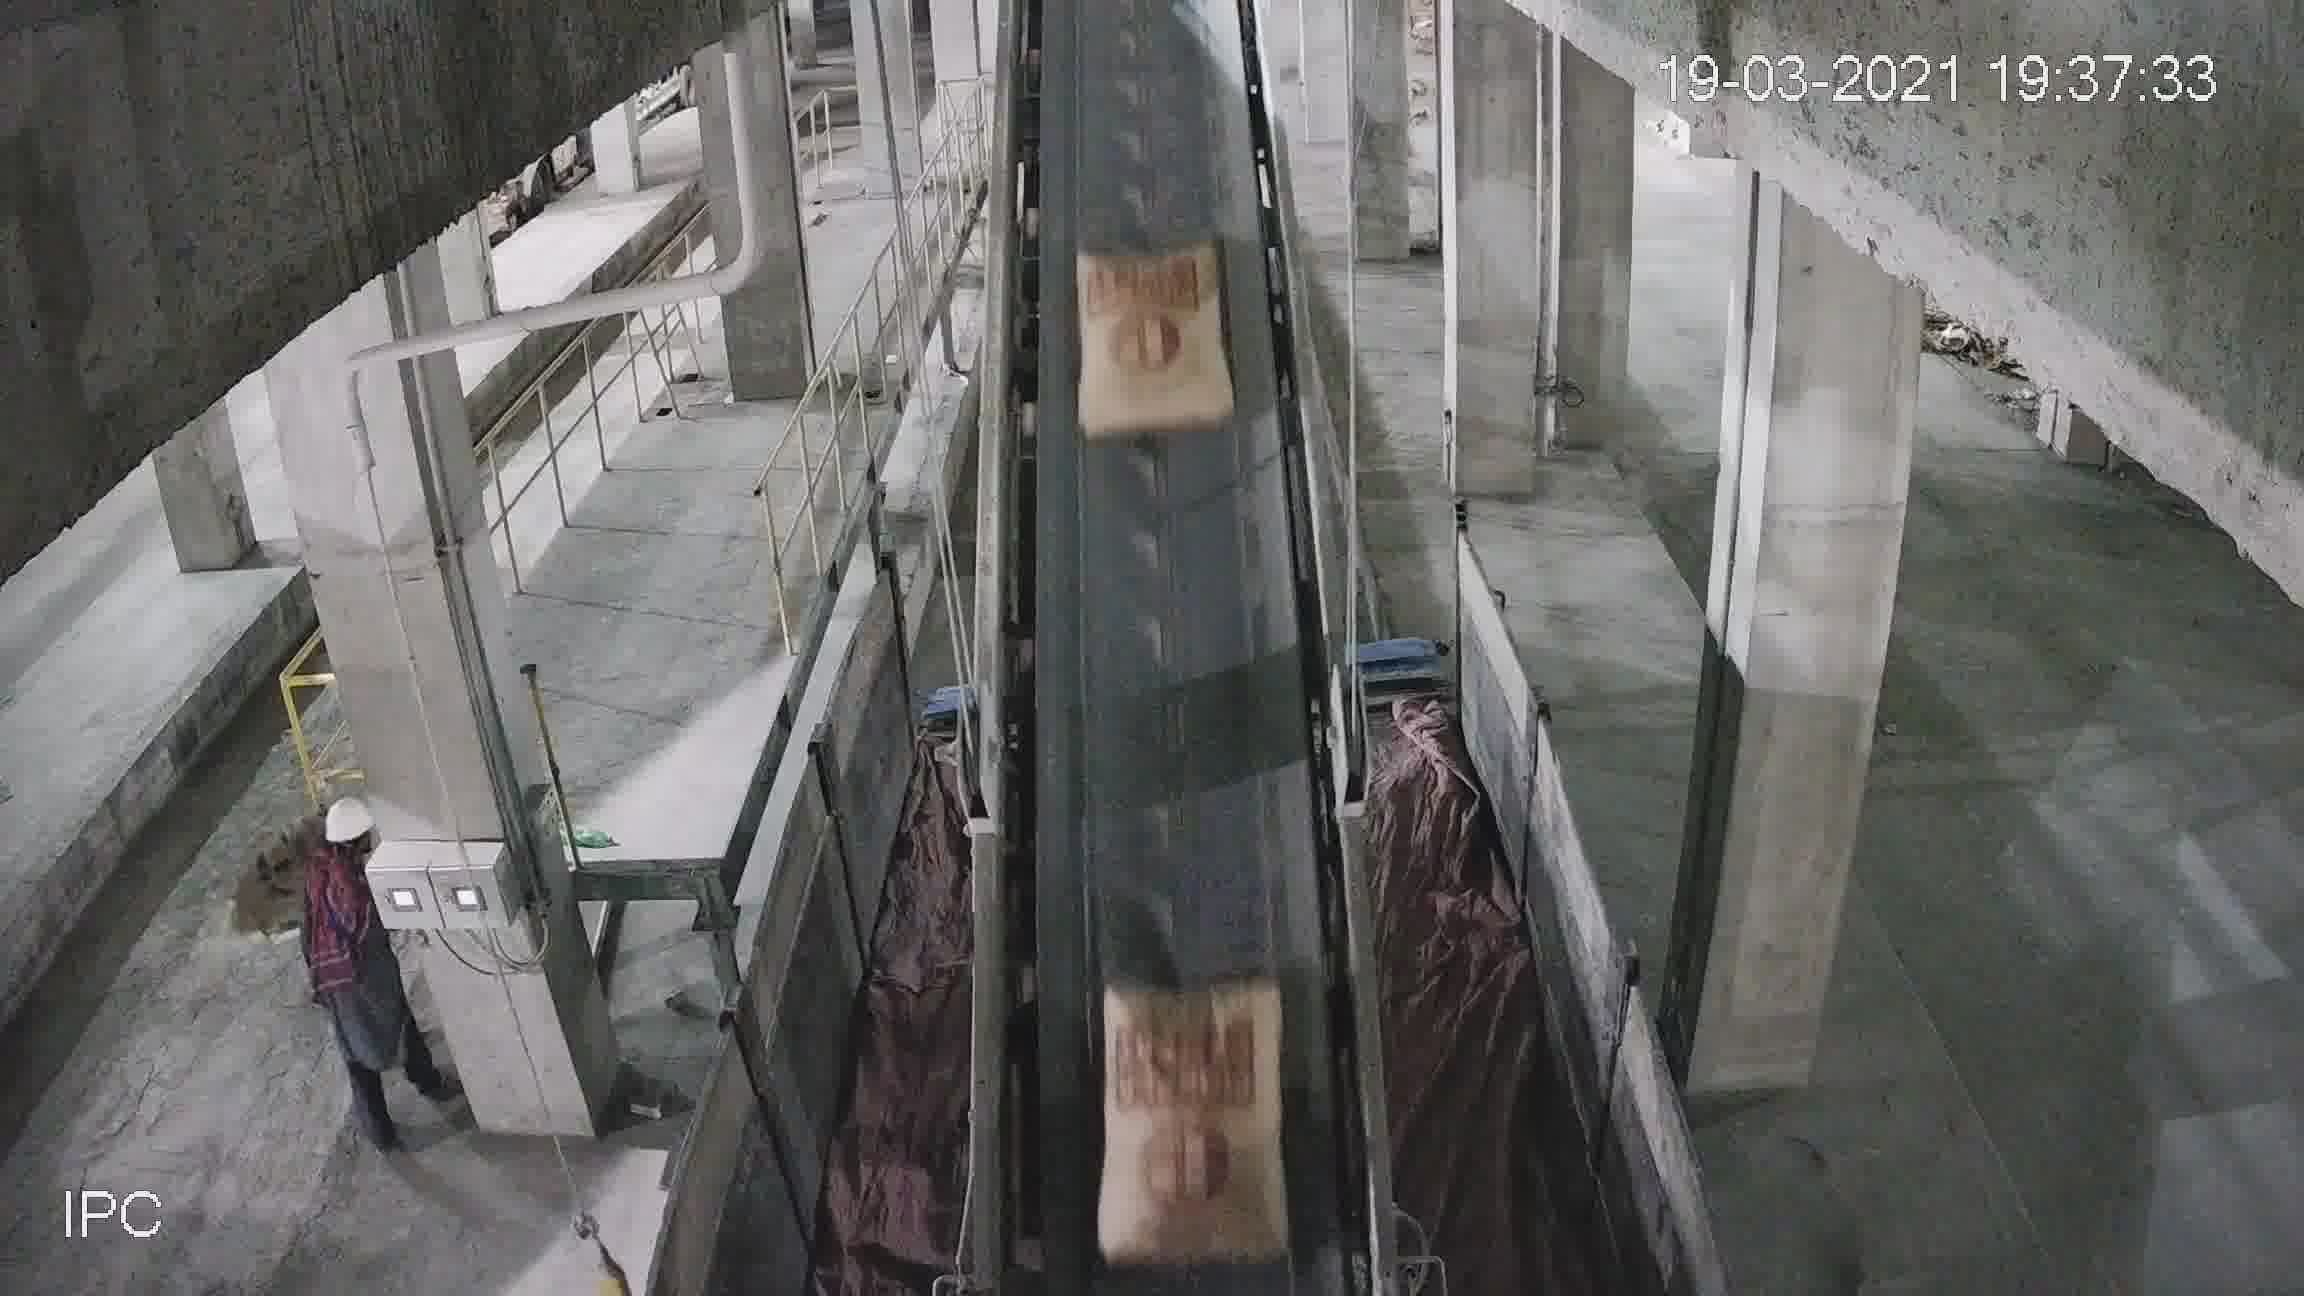bag: (1100, 965, 1285, 1182), (1079, 248, 1237, 437)
belt: (981, 21, 1355, 1171)
